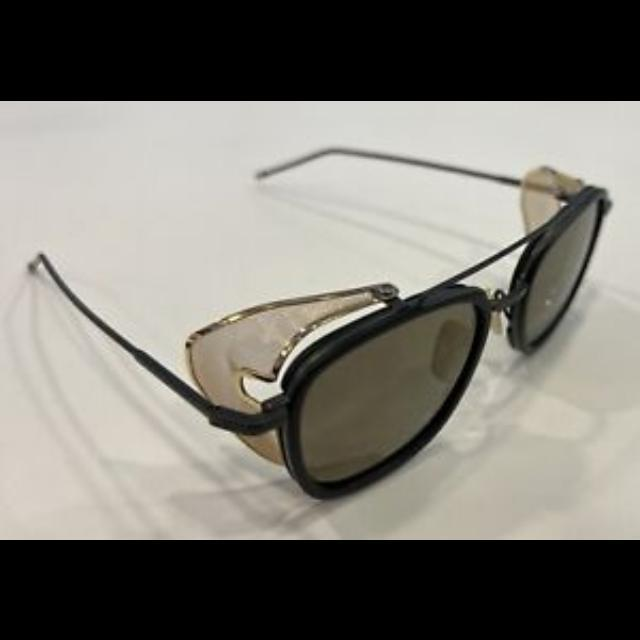sunglasses: (30, 147, 612, 499)
